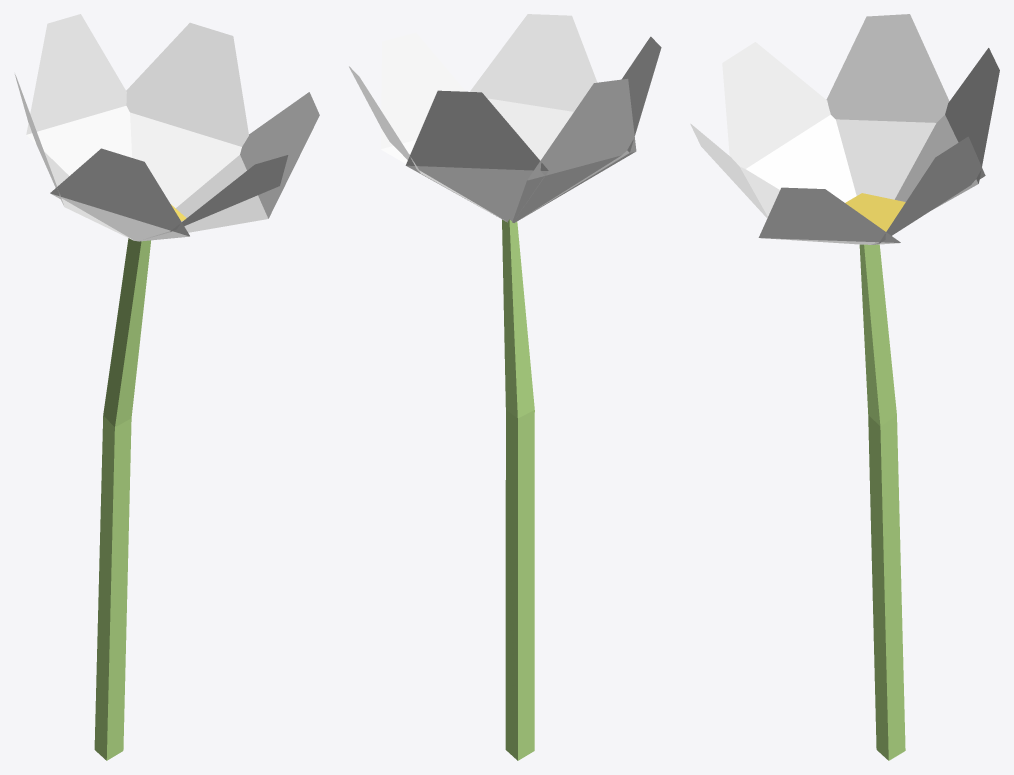
File: Flower_e_TwoS_01.fbx
3 renders of one model, left to right at view 1: azimuth 30°, elevation 25°; view 2: azimuth 150°, elevation 25°; view 3: azimuth 270°, elevation 25°, orthographic.
Visible parts, largest first — view 1: Flower_e_TwoS_01; view 2: Flower_e_TwoS_01; view 3: Flower_e_TwoS_01.
Part boxes in pixels (x1=…): Flower_e_TwoS_01: x1=14, y1=14, x2=319, y2=760; Flower_e_TwoS_01: x1=349, y1=14, x2=661, y2=760; Flower_e_TwoS_01: x1=690, y1=14, x2=999, y2=760.
Size of the model in its own units: 0.1467 by 0.3679 by 0.1475.
